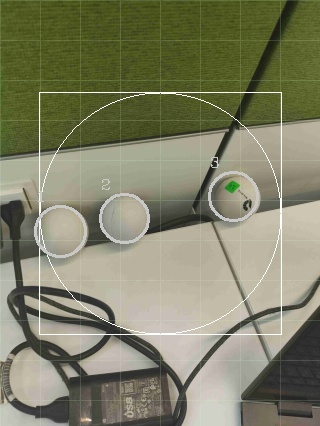Pelota blanca: (44, 331, 179, 425), (0, 342, 70, 419), (204, 169, 262, 224), (34, 204, 89, 259), (98, 190, 150, 246)
